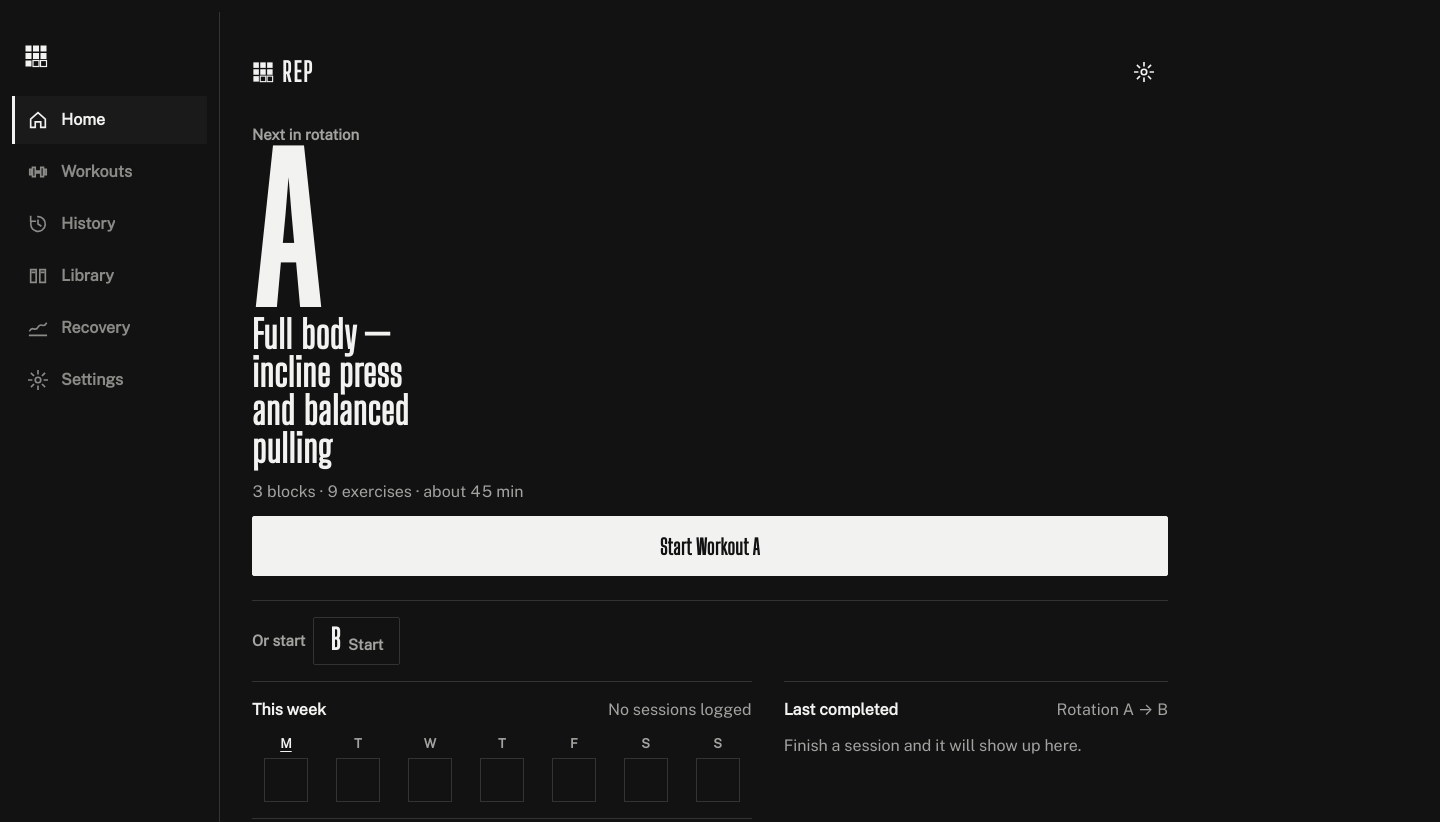
it: Active workout › logs an individual set, edits it, and marks the round done
Click the button "Start Workout A". click: point(710, 546)
box: [252,516,1168,576]
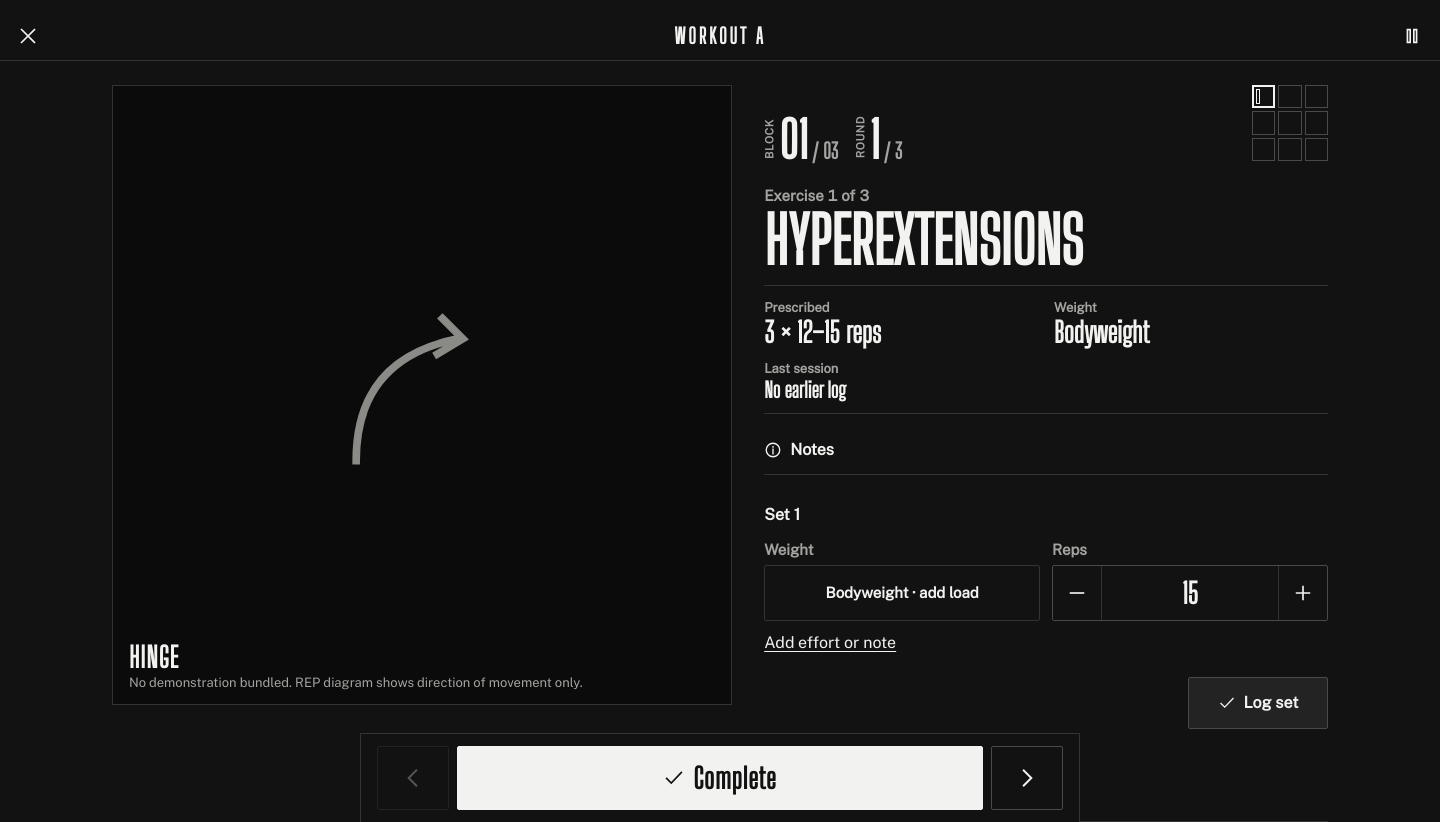
Now the heading "Hyperextensions" is shown, box [764,202,1083,278]
Click the button named "Decrease Reps by 1". click: point(1077, 593)
box: [1053,566,1101,620]
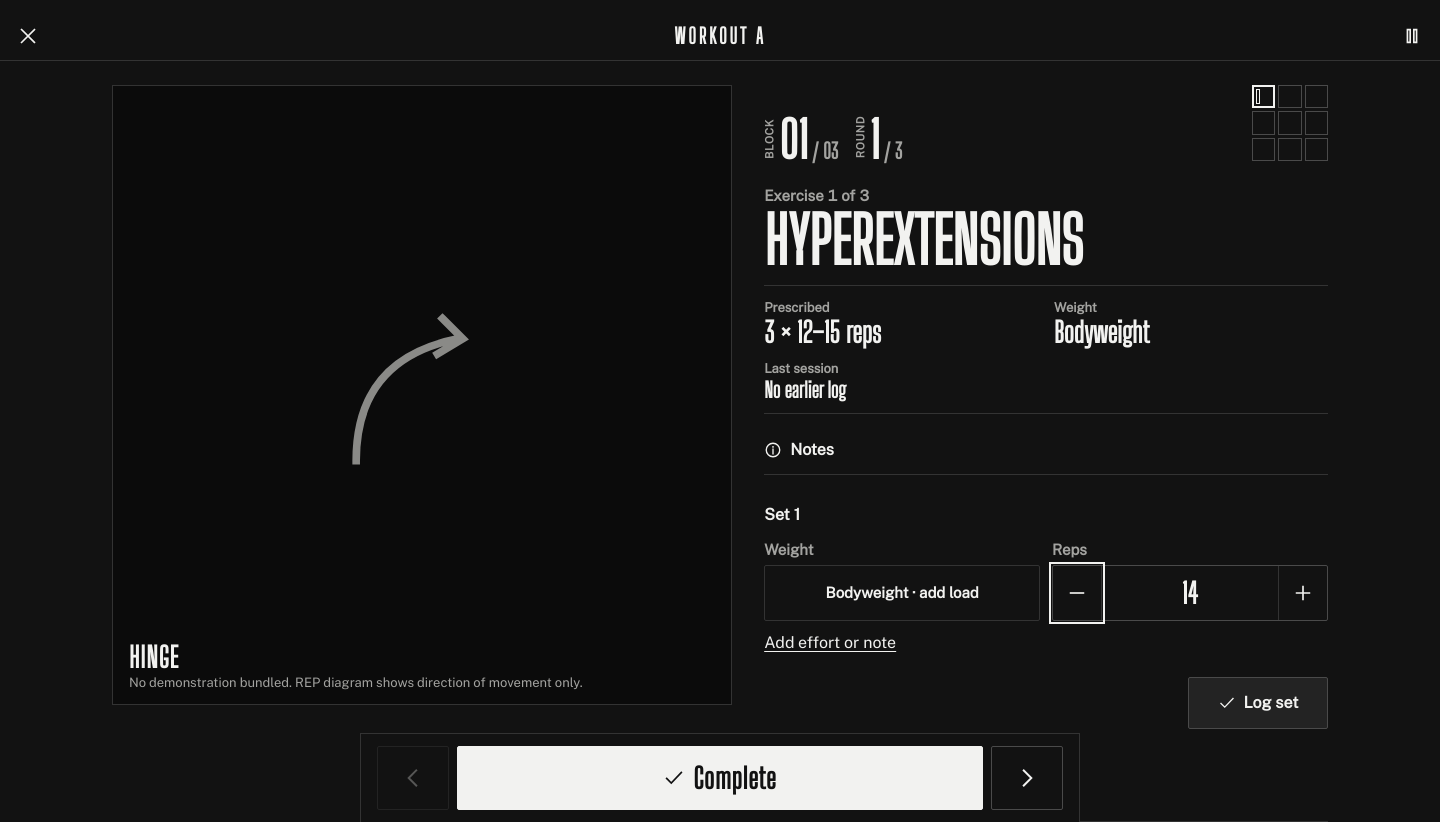
Click the button "Log set". click: point(1258, 703)
box: [1188,677,1328,729]
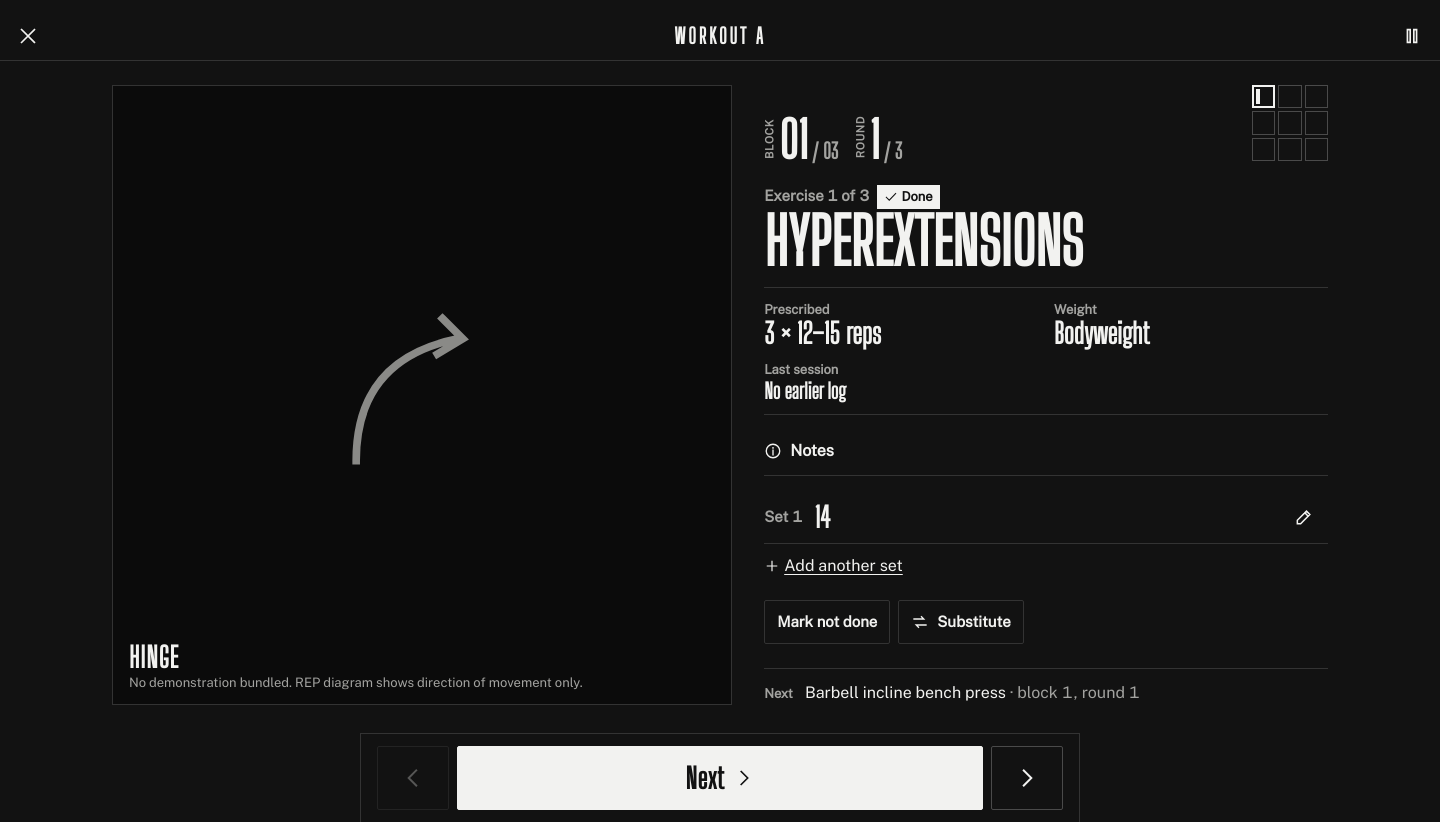
Now the list item "Set 1" shows "14", box [814,500,831,534]
Now the text "Done" is shown, box [877,185,940,209]
Click the button named "Edit set 1". click: point(1304, 517)
box: [1280,493,1328,541]
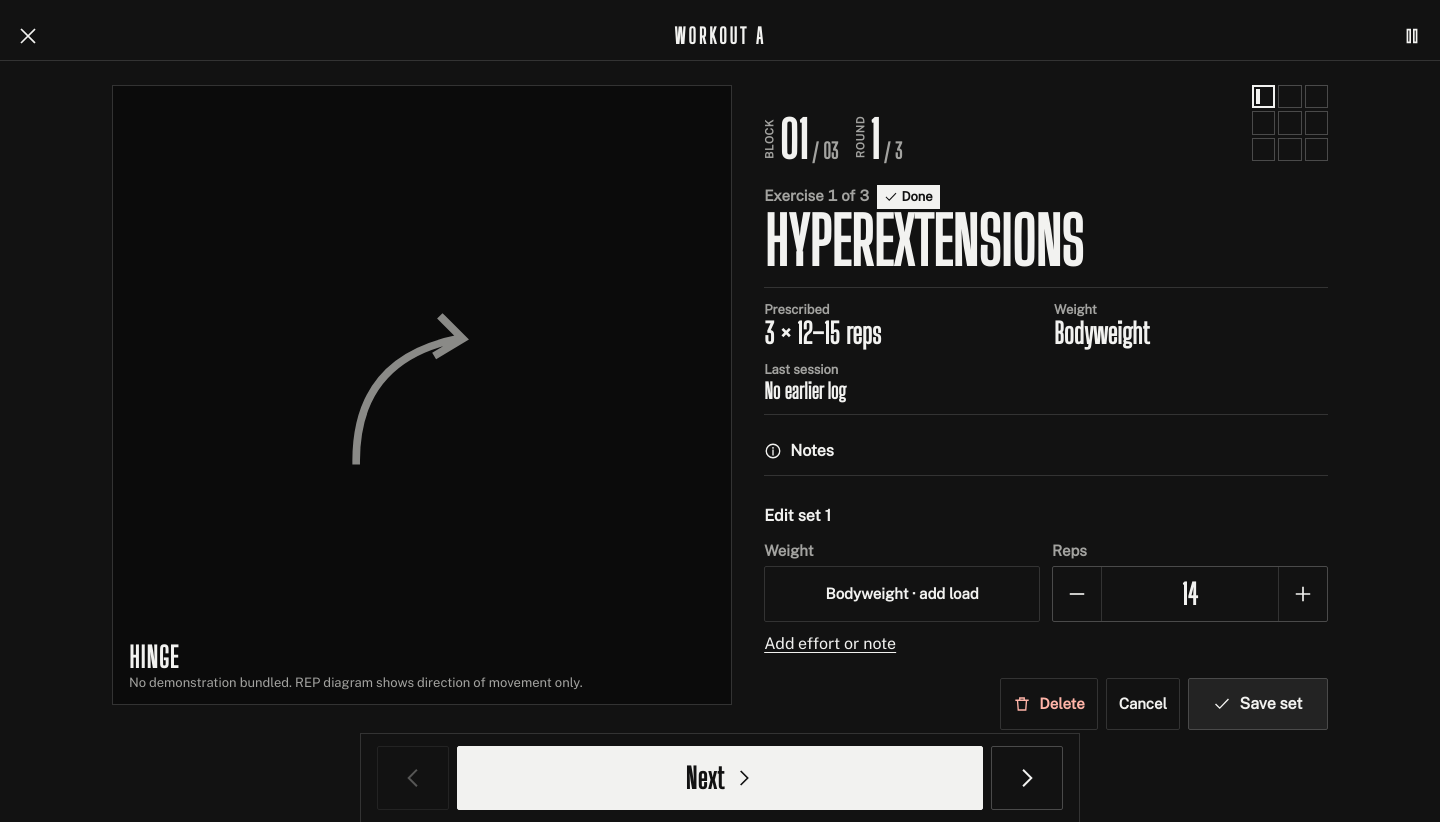
Click the button named "Increase Reps by 1". click: point(1303, 594)
box: [1279,567,1327,621]
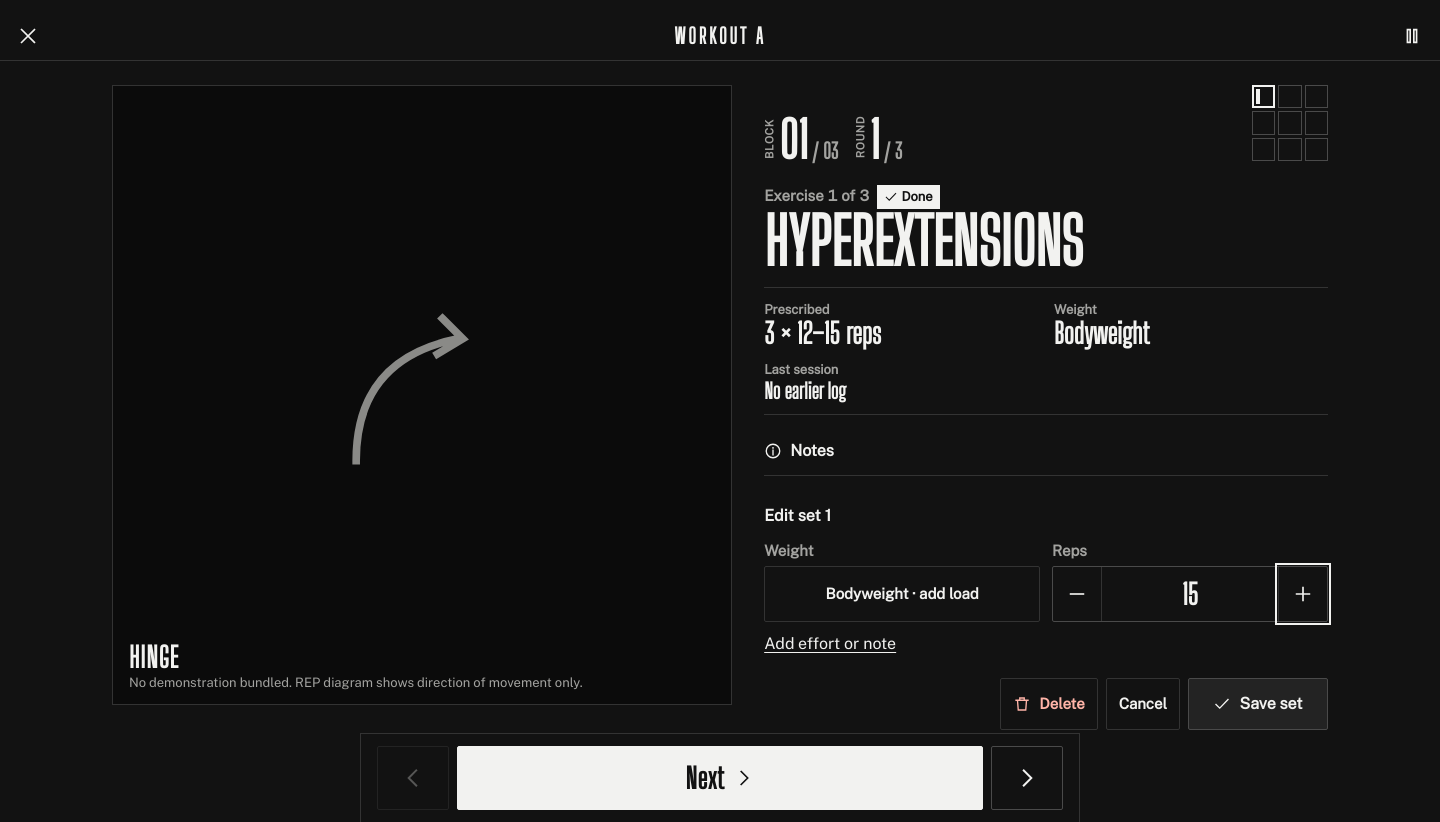
Click the button "Save set". click: point(1258, 704)
box: [1188,678,1328,730]
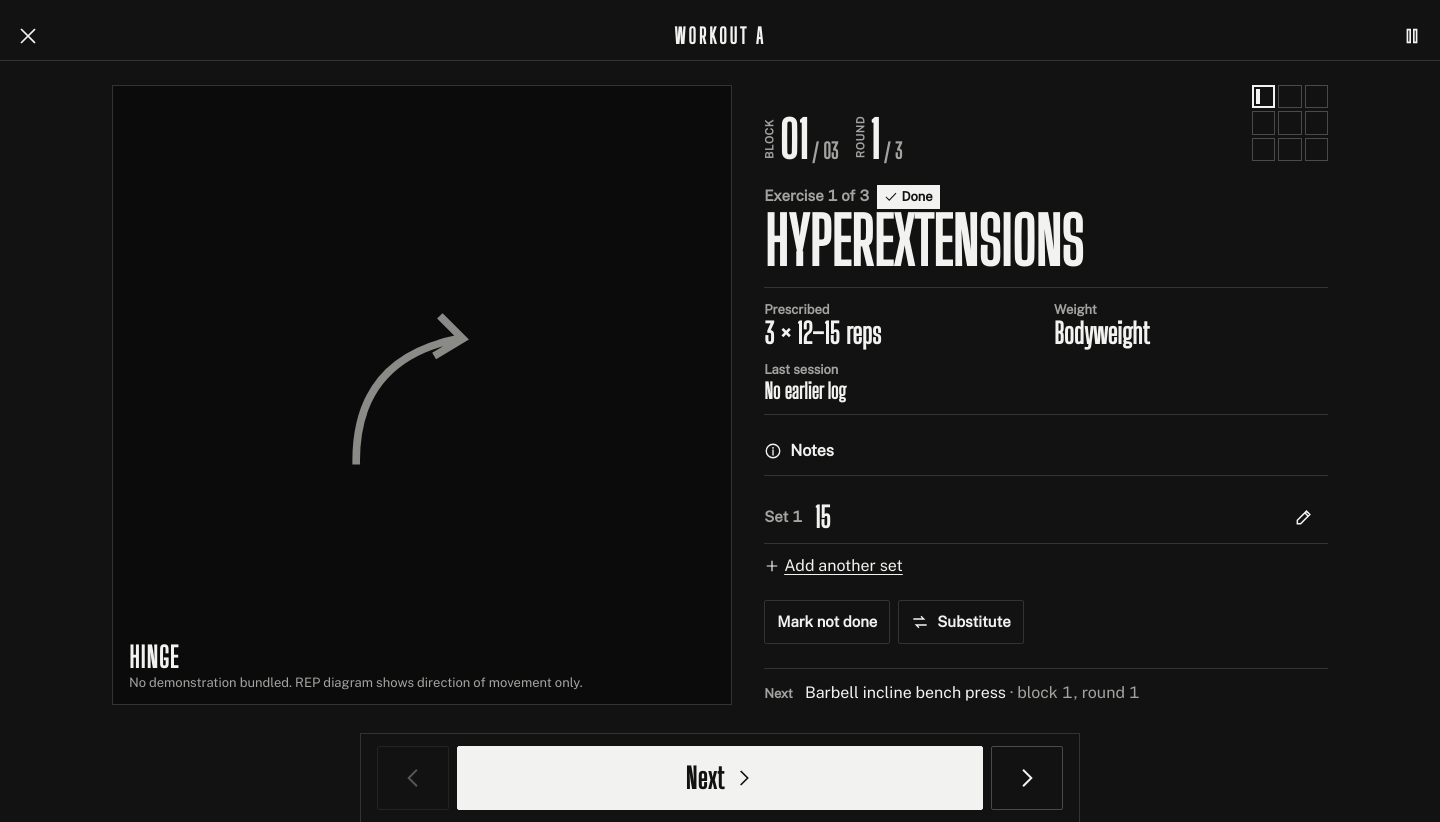
Now the list item "Set 1" shows "15", box [814,500,831,534]
